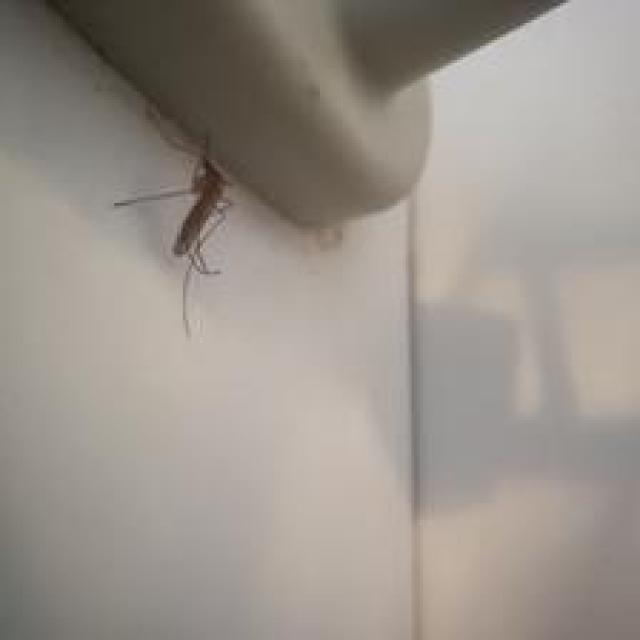Culex: (112, 144, 235, 339)
